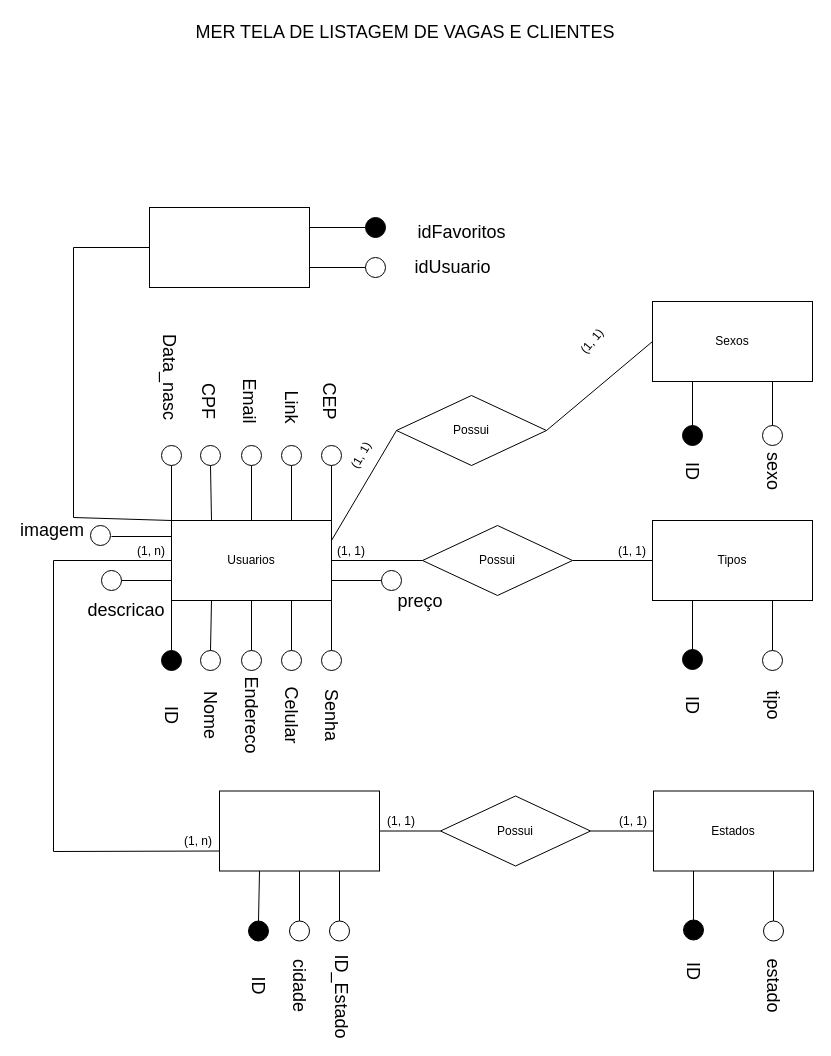
Image size: 831x1056. Some labels were removed from this diagram. The centre of each missing label's shape, as x and y in pixels:
Cidades: the point at 299,830
Favoritos: the point at 229,247
